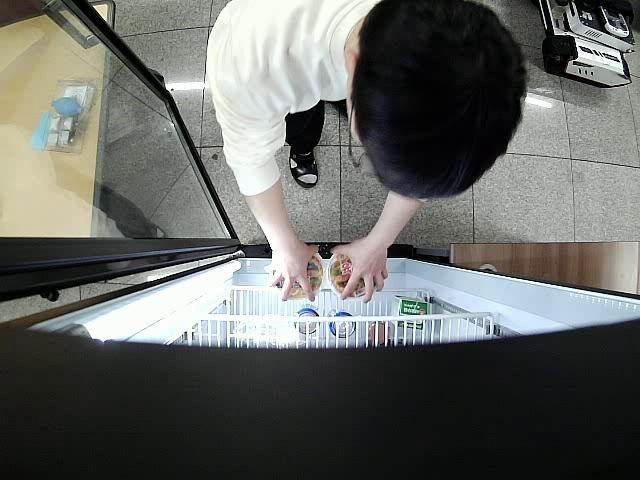09_yukGaeJang: (268, 256, 324, 298), (328, 252, 372, 300)
